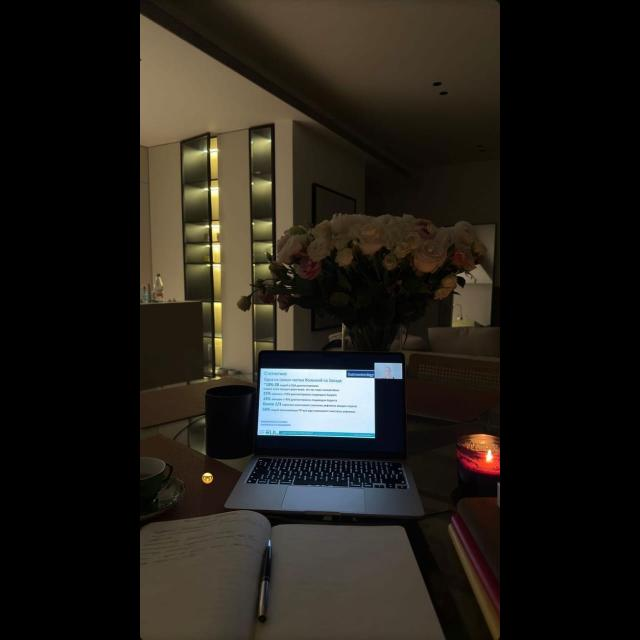laptop: (257, 352, 415, 522)
